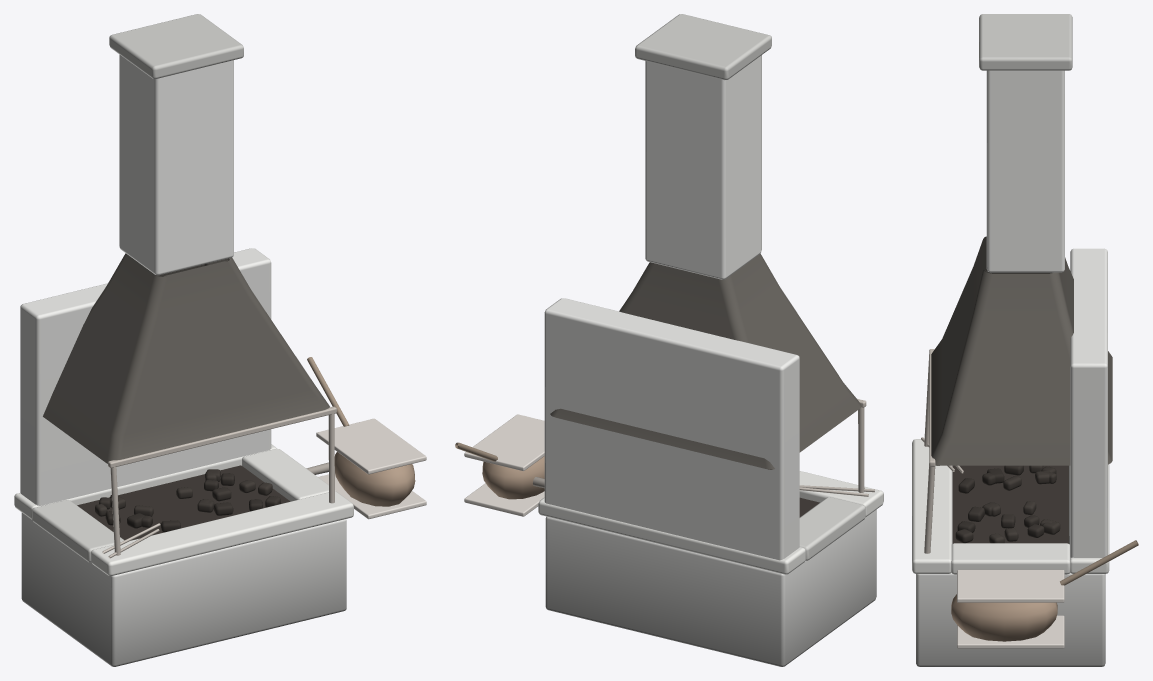
Rendered from forge_hearth.glb.
The picture shows the model from 3 angles, left to right: view 1: azimuth 30°, elevation 25°; view 2: azimuth 150°, elevation 25°; view 3: azimuth 270°, elevation 25°; orthographic projection. The views are drawn at different scales.
Parts seen in each view (by area): view 1: forge_hearth; view 2: forge_hearth; view 3: forge_hearth.
Boxes of the visible parts, bbox=[...] form: forge_hearth: bbox=[14, 14, 426, 666]; forge_hearth: bbox=[455, 14, 883, 666]; forge_hearth: bbox=[912, 14, 1138, 666].
Size of the model in its own units: 3.21 by 5.01 by 1.79.
